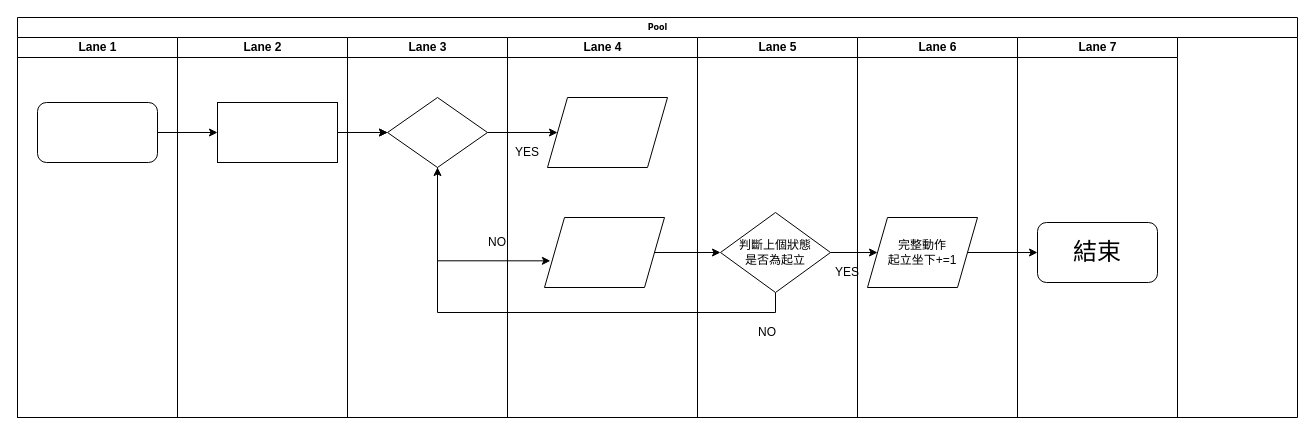
The diagram is 1315 pixels wide and 435 high, and some of its shapes have lost their labels. The shapes that lost their labels are listed below. From the top down, each one's centre as x and y in pixels, then its label:
At [97,132]: "開始".
At [277,132]: "抓出膝蓋以及腰部中點,計算設定距離".
At [437,132]: "判斷臀部中點高度是否高於膝蓋中點+預設距離".
At [607,132]: "狀態=起立".
At [604,252]: "狀態=坐下".
